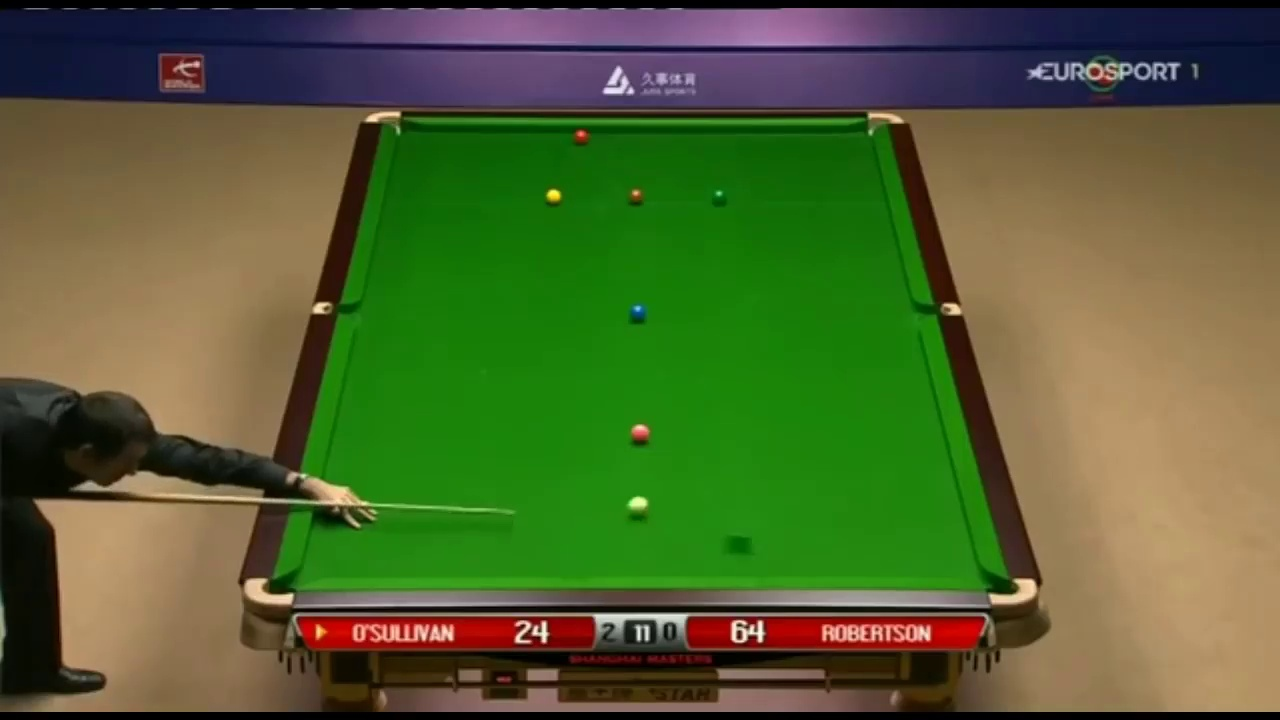ball: (543, 186, 562, 205), (626, 305, 646, 323), (626, 186, 645, 204), (630, 424, 649, 442), (571, 129, 588, 144), (710, 190, 725, 207)
